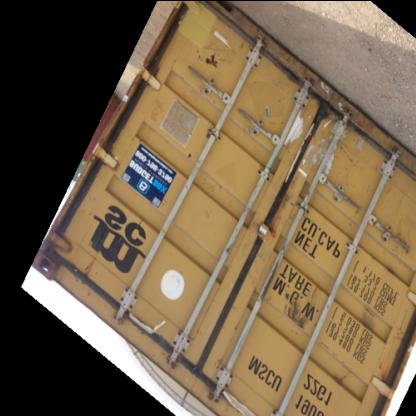Damage: (277, 106, 358, 199), (375, 175, 410, 271), (187, 41, 244, 99), (36, 238, 97, 290), (274, 283, 318, 332), (346, 298, 382, 350), (320, 360, 360, 401), (193, 170, 226, 202)
